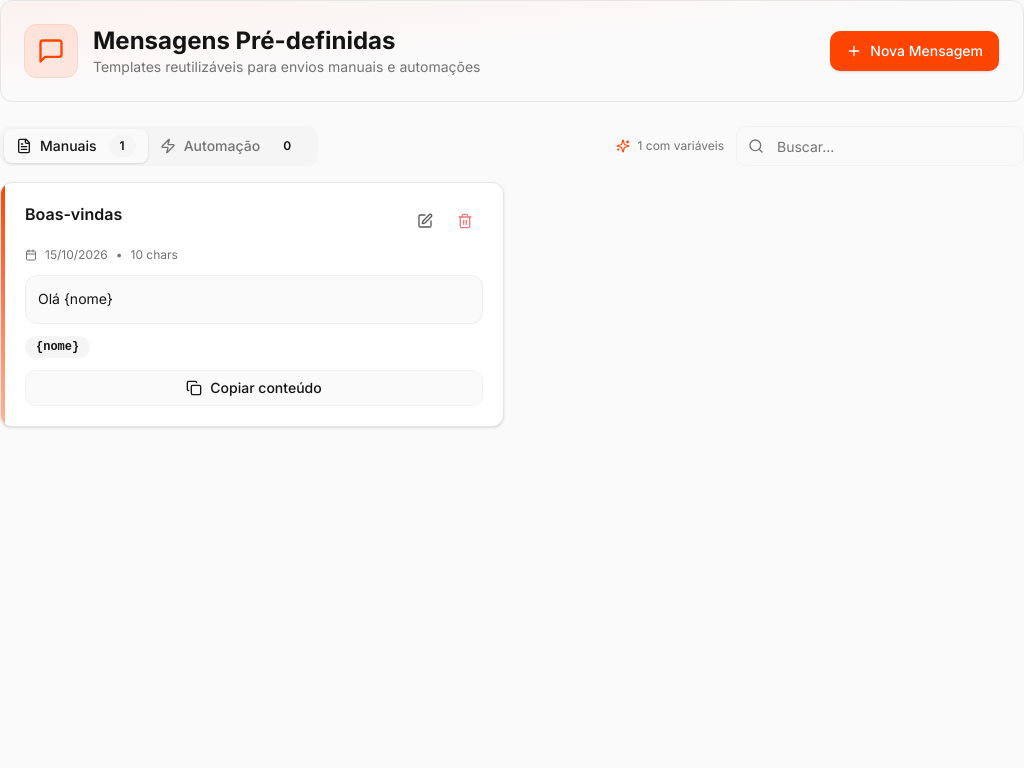
predefined messages screen reliability › keeps the user's draft open when an update is not confirmed
Check: the heading "Boas-vindas" is shown, box top-left (25, 204), bottom-right (122, 224)
Click the button named "Editar mensagem pré-definida": (425, 221) top-left (407, 203), bottom-right (443, 239)
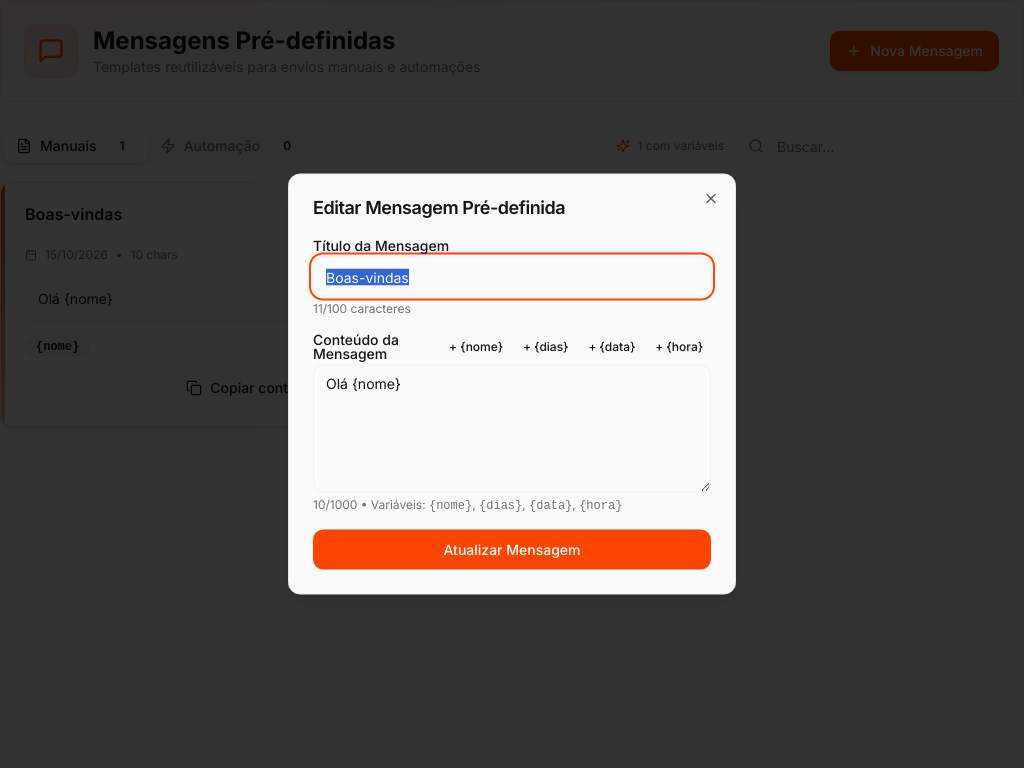
Replace the text in the text box labelled "Conteúdo da Mensagem" with "Novo texto": (512, 428) top-left (313, 364), bottom-right (711, 492)
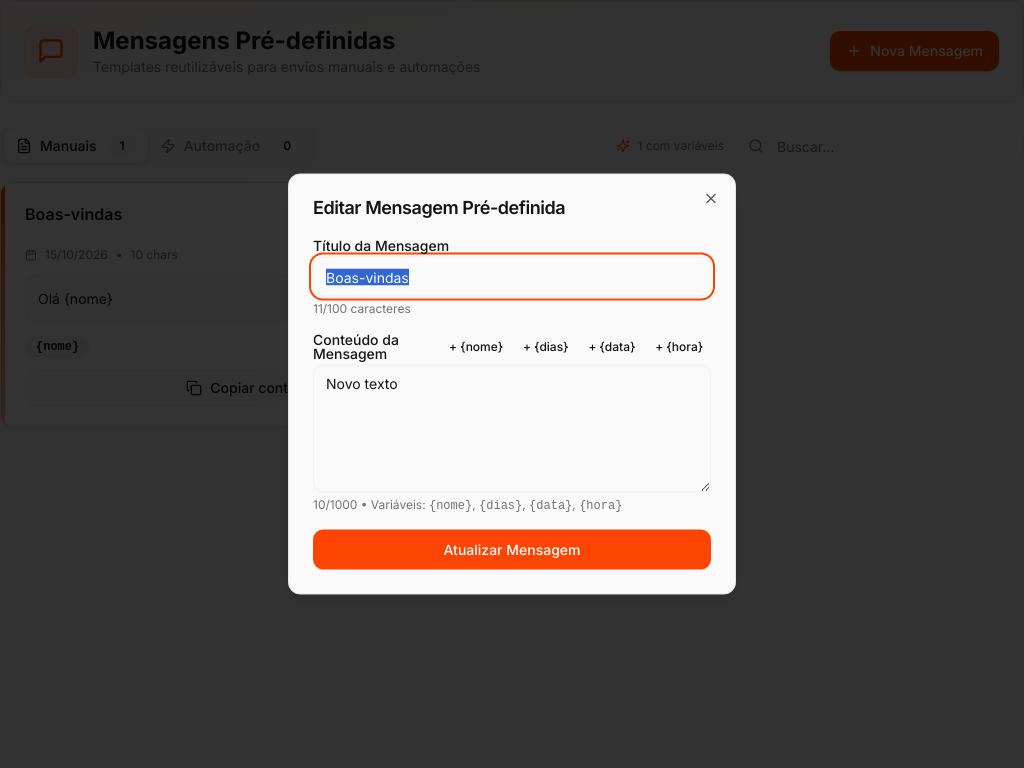
Click the button "Atualizar Mensagem": (512, 550) top-left (313, 530), bottom-right (711, 570)
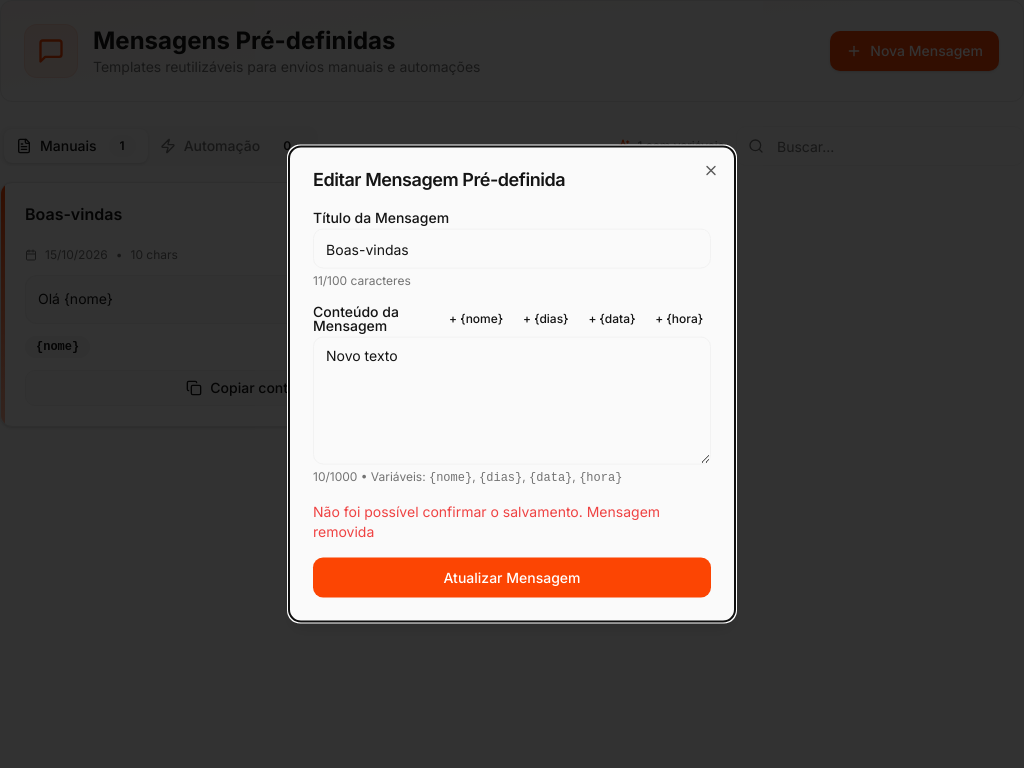
Check: the dialog is shown, box top-left (288, 146), bottom-right (736, 622)
Check: the message shows "Mensagem removida", box top-left (313, 502), bottom-right (660, 540)
